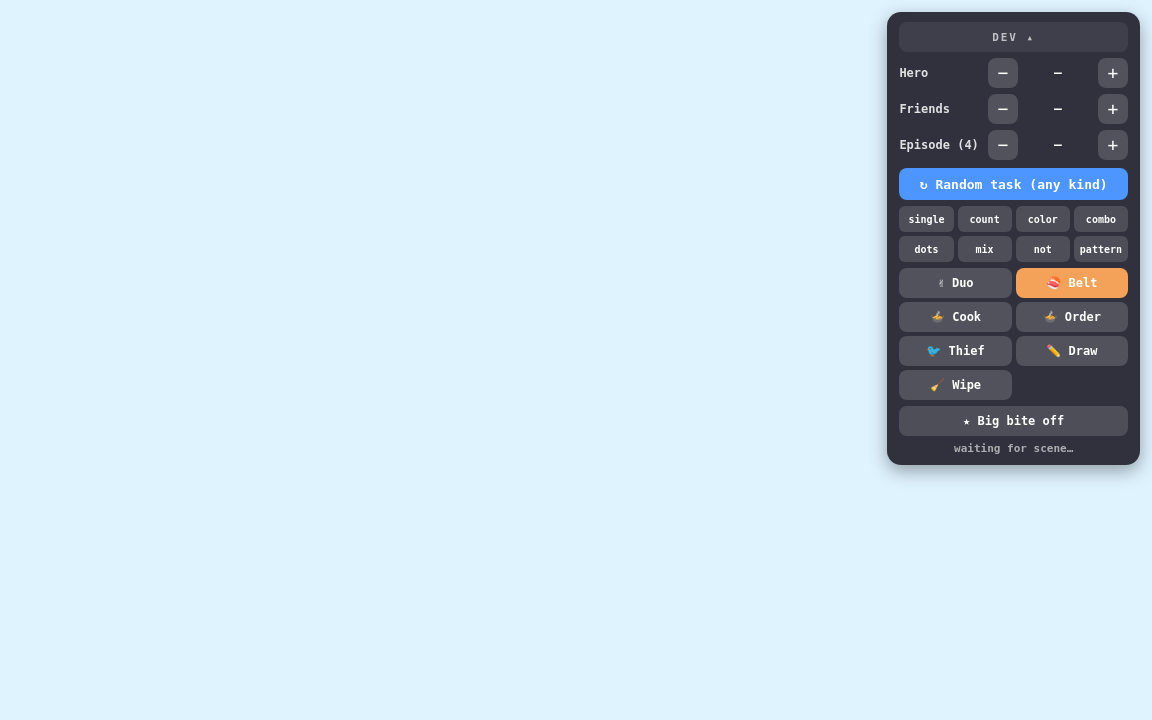
it: FeedDevPanel › collapses to a single toggle and hides the controls
Step 1. Click the button "DEV ▴" → (1014, 37), box [899, 22, 1128, 52]
Wait 2000 ms
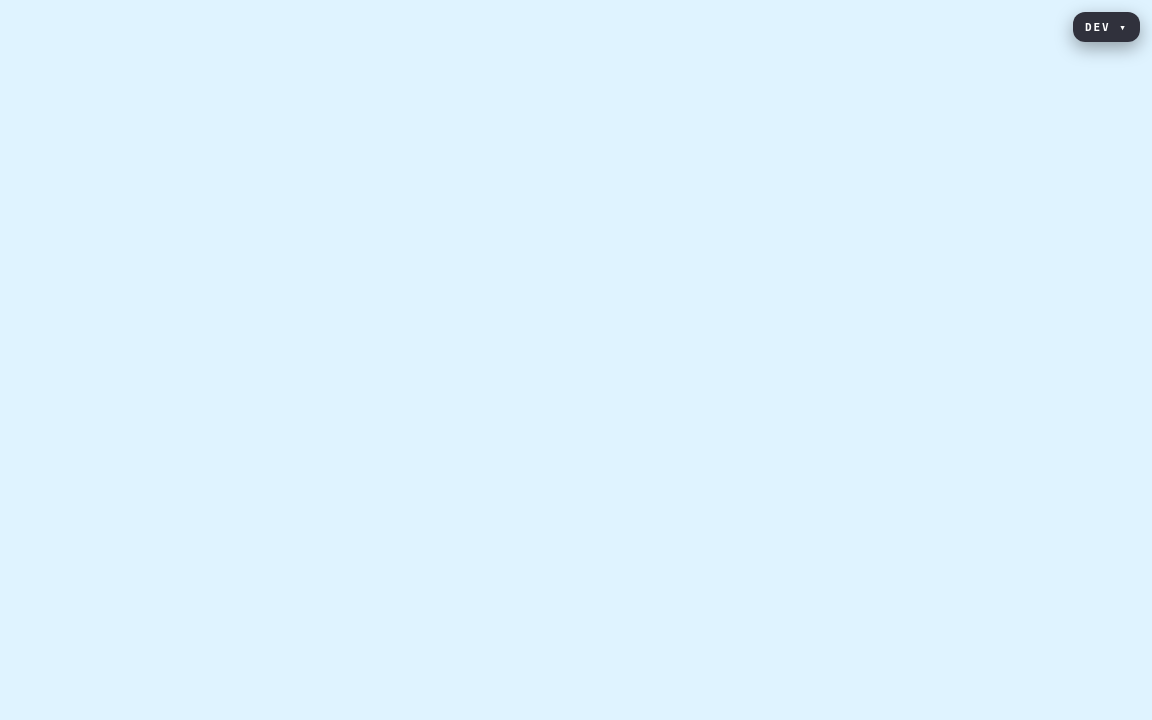
Now the text "waiting for scene…" is gone
Now the button "✌ Duo" is gone
Now the number of buttons is 1, box [1073, 12, 1140, 42]
